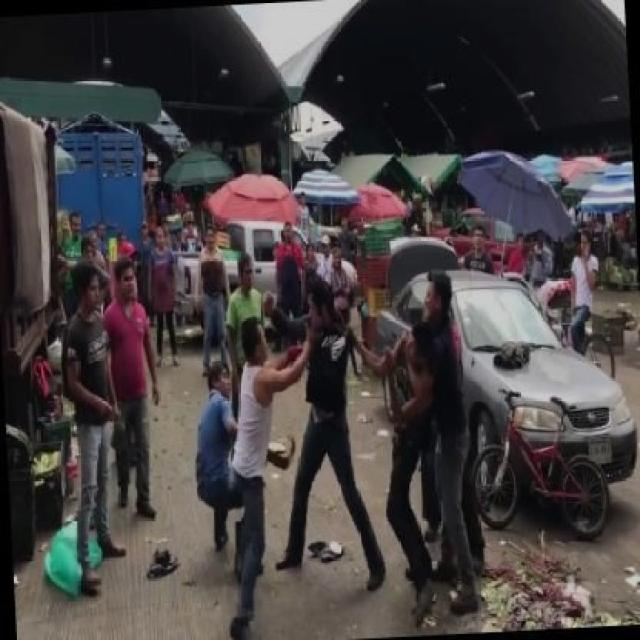fight: (226, 284, 390, 640), (341, 275, 483, 624)
non-fight: (64, 260, 129, 598), (103, 266, 161, 524), (228, 256, 276, 377), (196, 232, 232, 370), (276, 224, 304, 352), (573, 231, 596, 347)
